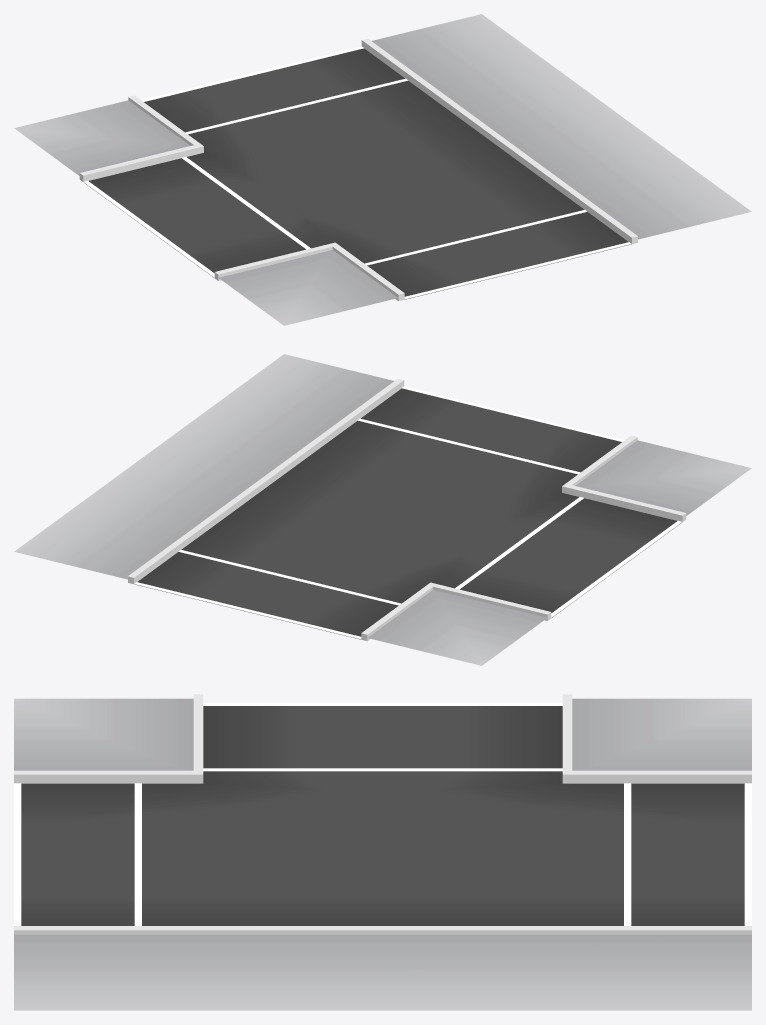
File: city2-road-011.glb
The picture shows the model from 3 angles, top to bottom: view 1: azimuth 30°, elevation 25°; view 2: azimuth 150°, elevation 25°; view 3: azimuth 270°, elevation 25°; orthographic projection. The views are drawn at different scales.
Visible parts, largest first — view 1: road_011; view 2: road_011; view 3: road_011.
Boxes of the visible parts, x1=… form: road_011: x1=14, y1=14, x2=751, y2=325; road_011: x1=14, y1=354, x2=751, y2=665; road_011: x1=14, y1=694, x2=751, y2=1010.
Bounding box in the file's own units: 15 × 0.2 × 15.
Materials: 1 (1 with a texture image).
